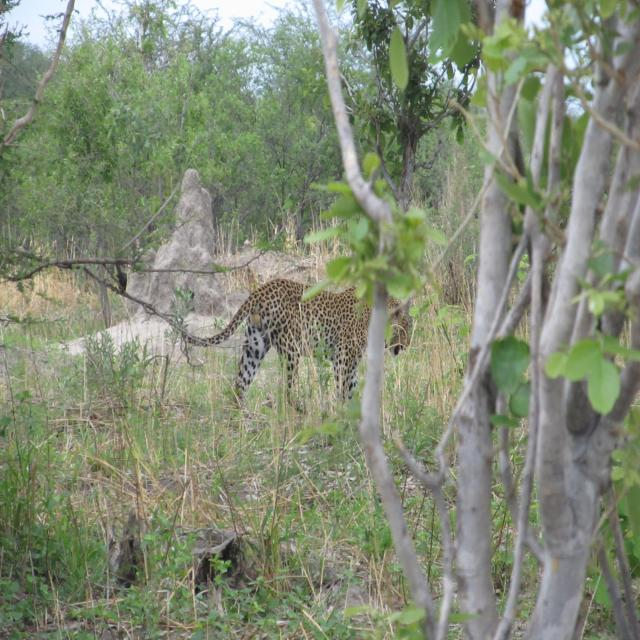Leopard: (201, 260, 404, 430)
